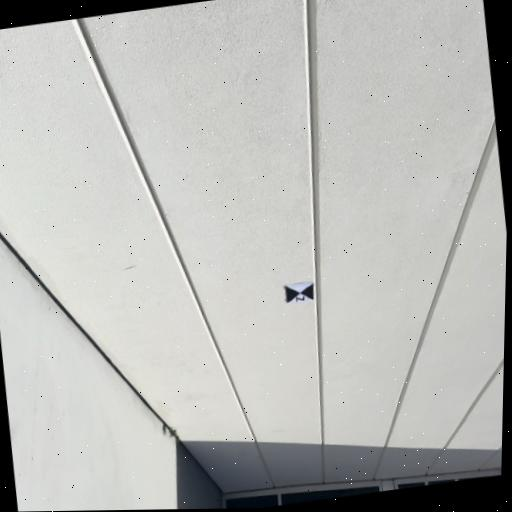target7: (284, 280, 315, 305)
